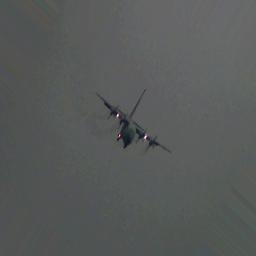Airplane: (97, 89, 172, 156)
